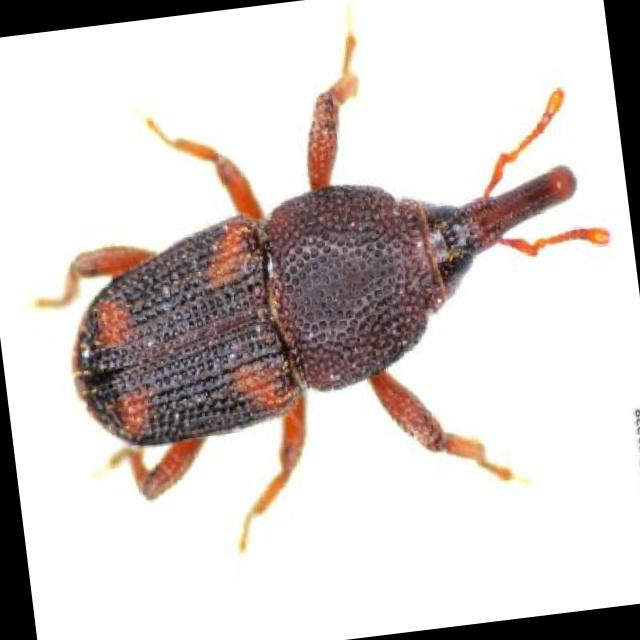rice-bug: (52, 131, 613, 508)
